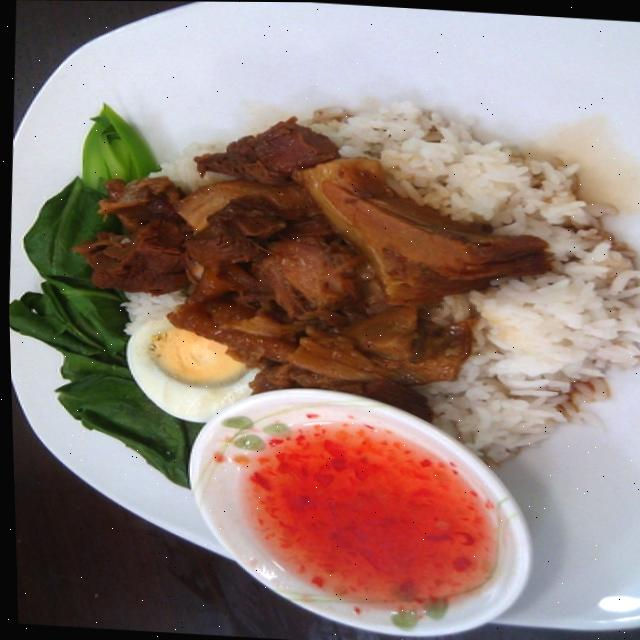猪肉菜式: (0, 0, 629, 596)
